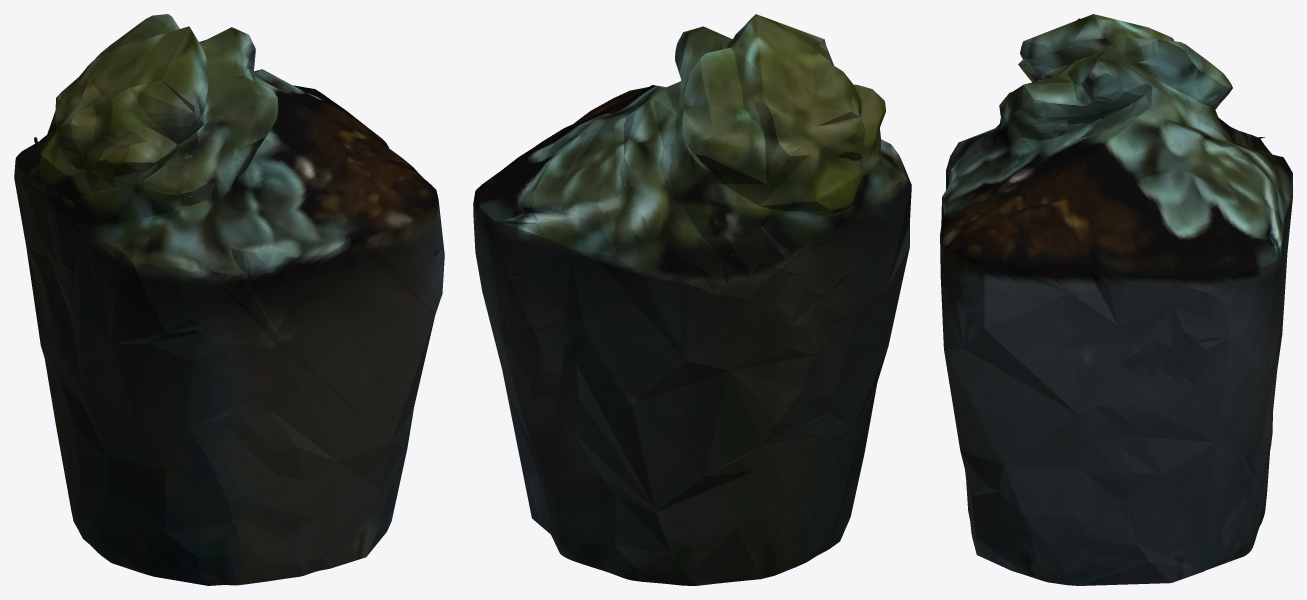
Rendered from model_New Qlone_lp_20210616_131952299.obj.
The picture shows the model from 3 angles, left to right: view 1: azimuth 30°, elevation 25°; view 2: azimuth 150°, elevation 25°; view 3: azimuth 270°, elevation 25°; orthographic projection. The views are drawn at different scales.
Bounding box in the file's own units: 32.66 × 47.8 × 31.33.
Materials: 1 (1 with a texture image).
